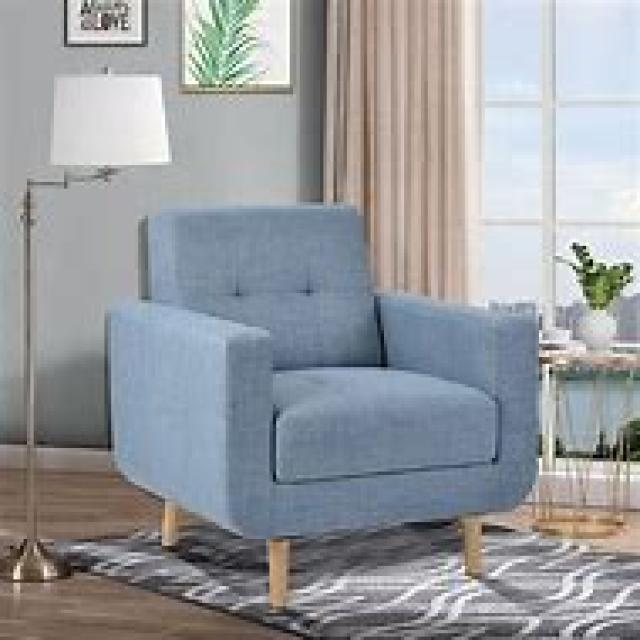chair: (104, 198, 539, 610)
